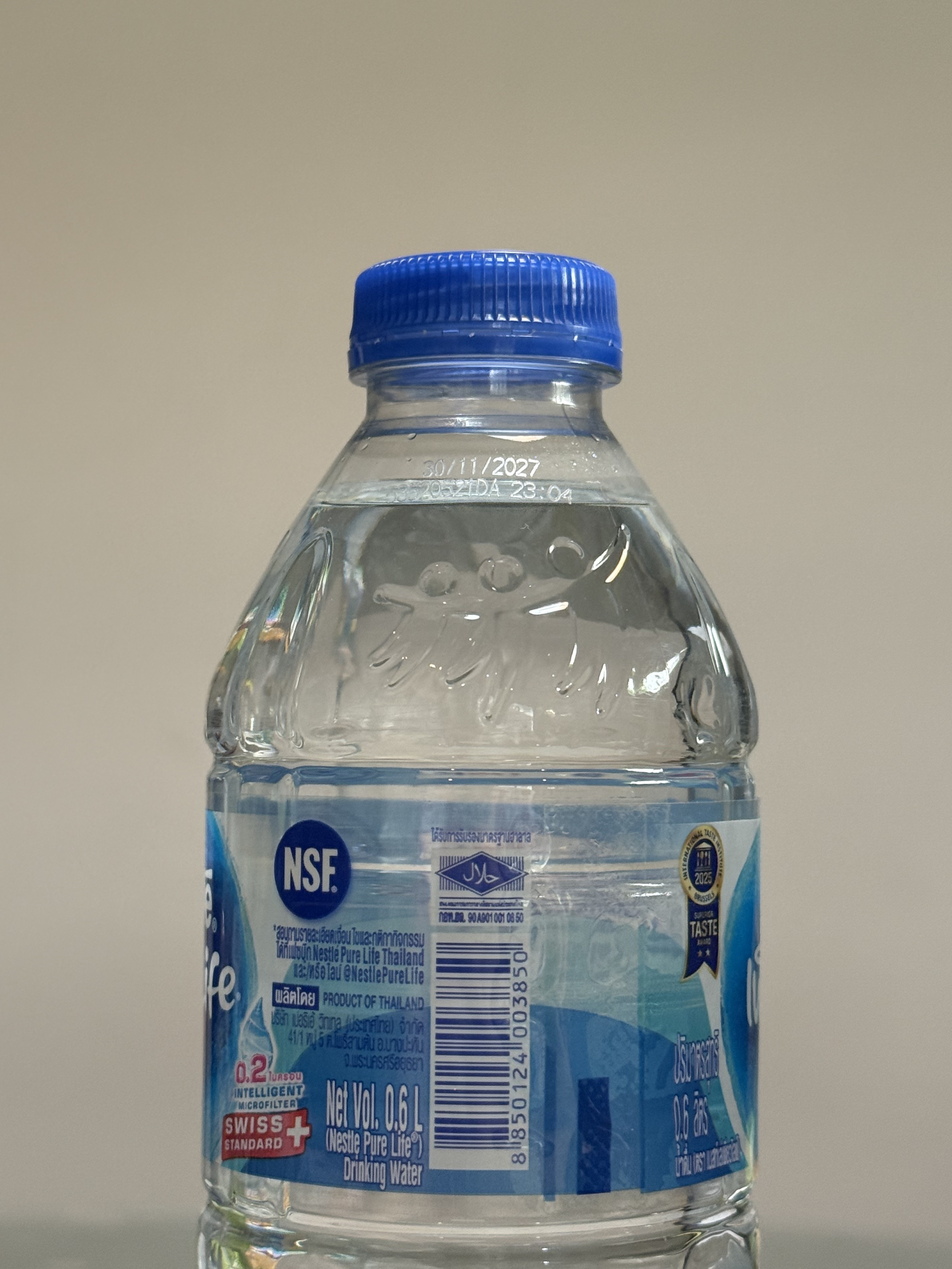closed_cap: (344, 245, 626, 385)
